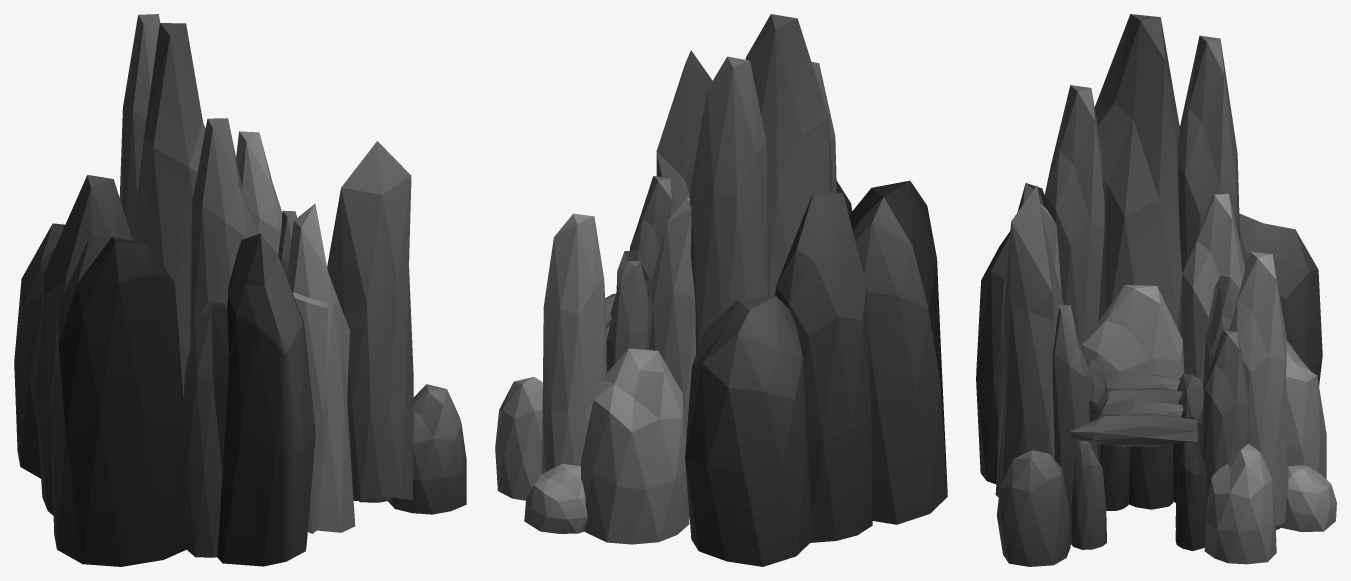
File: gimansio.fbx
3 renders of one model, left to right at view 1: azimuth 30°, elevation 25°; view 2: azimuth 150°, elevation 25°; view 3: azimuth 270°, elevation 25°, orthographic. The views are drawn at different scales.
Parts seen in each view (by area): view 1: Gimnasio; view 2: Gimnasio; view 3: Gimnasio.
Boxes of the visible parts, <box> form: Gimnasio: <box>14,14,466,566</box>; Gimnasio: <box>495,14,947,566</box>; Gimnasio: <box>976,14,1336,566</box>.
Bounding box in the file's own units: 3191 × 4055 × 2945.
Materials: 1 (1 with a texture image).
